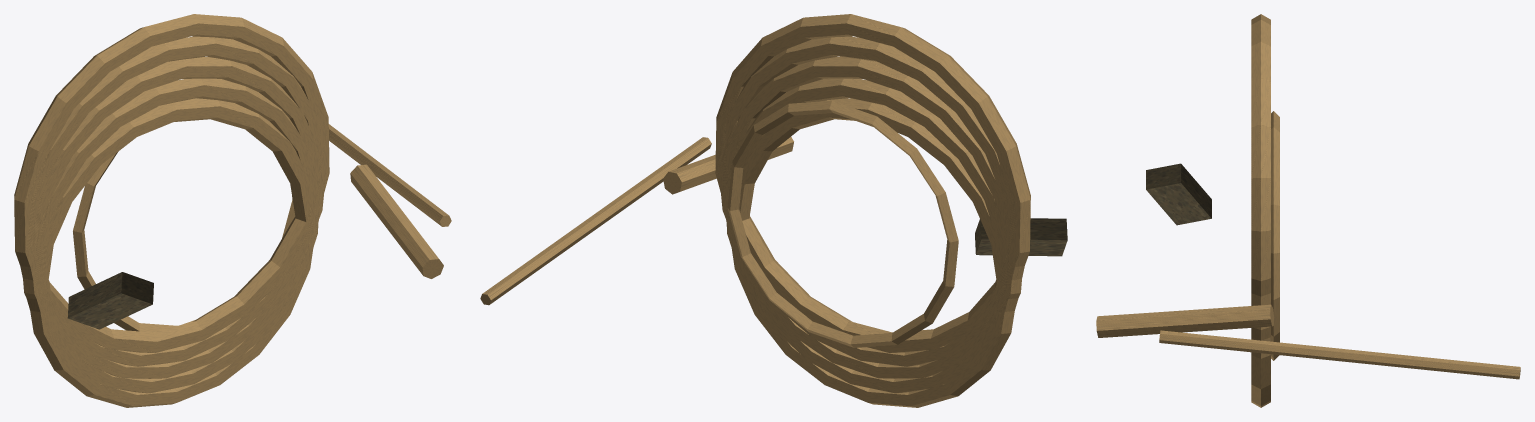
File: pr-002_rope_coil__carried.obj
The picture shows the model from 3 angles, left to right: view 1: azimuth 30°, elevation 25°; view 2: azimuth 150°, elevation 25°; view 3: azimuth 270°, elevation 25°; orthographic projection. The views are drawn at different scales.
Visible parts, largest first — view 1: pr-002_rope_coil__carried; view 2: pr-002_rope_coil__carried; view 3: pr-002_rope_coil__carried.
Part boxes in pixels (box(x1,y1,x2,y2)): pr-002_rope_coil__carried: box(14, 14, 451, 407); pr-002_rope_coil__carried: box(480, 14, 1067, 407); pr-002_rope_coil__carried: box(1096, 14, 1520, 407).
Bounding box in the file's own units: 0.712 × 0.6337 × 0.6718.
2 materials, 2 textured.
